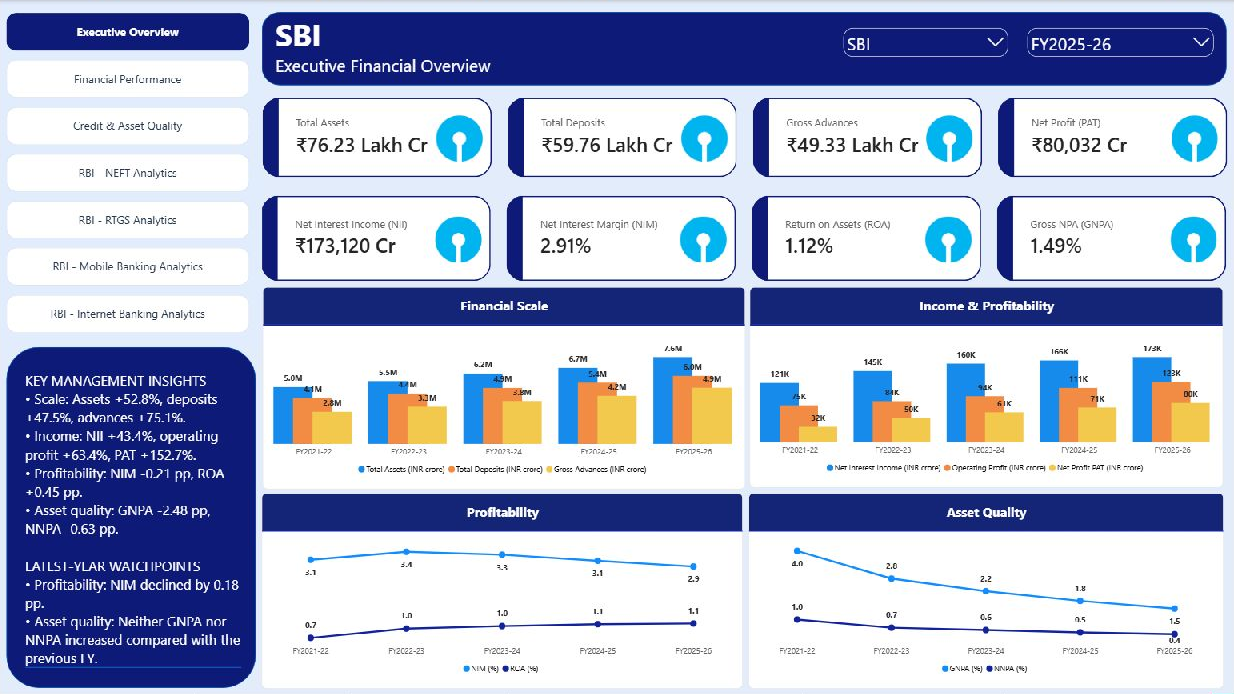

The page's visual inventory and layout, read from the dashboard file:
{"tool":"powerbi","page":{"name":"Executive Overview","canvas":[1920,1080],"ordinal":0},"visuals":[{"type":"shape","box":[0,540,408,530],"z":0},{"type":"shape","box":[408,18,1510,114],"z":1000},{"type":"clusteredColumnChart","title":"Financial Scale","fields":{"Category":["Dim_Financial_Year.Financial Year"],"Y":["Bank KPIs.Total Assets (INR crore)","Bank KPIs.Total Deposits (INR crore)","Bank KPIs.Gross Advances (INR crore)"]},"box":[408.6,445.7,750,314.3],"z":3000},{"type":"clusteredColumnChart","title":"Income & Profitability","fields":{"Category":["Dim_Financial_Year.Financial Year"],"Y":["Bank KPIs.Net Interest Income (INR crore)","Bank KPIs.Operating Profit (INR crore)","Bank KPIs.Net Profit PAT (INR crore)"]},"box":[1166,446,736,312],"z":4000},{"type":"lineChart","title":"Profitability","fields":{"Category":["Dim_Financial_Year.Financial Year"],"Y":["Bank KPIs.NIM (%)","Bank KPIs.ROA (%)"]},"box":[408,766,748,304],"z":5000},{"type":"lineChart","title":"Asset Quality","fields":{"Category":["Dim_Financial_Year.Financial Year"],"Y":["Bank KPIs.GNPA (%)","Bank KPIs.NNPA (%)"]},"box":[1164,766,738,304],"z":6000},{"type":"textbox","box":[408.1,10.5,589.5,102.9],"z":7000},{"type":"cardVisual","fields":{"Data":["Bank KPIs.Executive NII Cr","Bank KPIs.Executive NIM","Bank KPIs.Executive ROA","Bank KPIs.Executive GNPA"]},"box":[408,284,1510,162],"z":9000},{"type":"cardVisual","fields":{"Data":["Bank KPIs.Executive Assets Lakh Cr","Bank KPIs.Executive Deposits Lakh Cr","Bank KPIs.Executive Advances Lakh Cr","Bank KPIs.Executive PAT Cr"]},"box":[408.3,132.7,1512.5,153.1],"z":10000},{"type":"slicer","fields":{"Values":["Dim_Financial_Year.Financial Year"]},"box":[1582,18,320,112],"z":11000},{"type":"pageNavigator","box":[0,0,408.3,539.3],"z":12000},{"type":"textbox","box":[29.1,565.5,356.4,492.7],"z":13000},{"type":"slicer","fields":{"Values":["Dim_Bank.Bank Name"]},"box":[1296,18,286,112],"z":14000}]}

Visuals, with their boxes in screenshot pixels (x1, y1, x2, y2), scaled from the page's 1920x1080 canvas onto the 1234x694 screenshot:
shape: crop(0, 347, 262, 688)
shape: crop(262, 12, 1233, 85)
"Financial Scale" clusteredColumnChart: crop(263, 286, 745, 488)
"Income & Profitability" clusteredColumnChart: crop(749, 287, 1222, 487)
"Profitability" lineChart: crop(262, 492, 743, 688)
"Asset Quality" lineChart: crop(748, 492, 1222, 688)
textbox: crop(262, 7, 641, 73)
cardVisual - Bank KPIs.Executive NII Cr x Bank KPIs.Executive NIM: crop(262, 182, 1233, 287)
cardVisual - Bank KPIs.Executive Assets Lakh Cr x Bank KPIs.Executive Deposits Lakh Cr: crop(262, 85, 1233, 184)
slicer - Dim_Financial_Year.Financial Year: crop(1017, 12, 1222, 84)
pageNavigator: crop(0, 0, 262, 347)
textbox: crop(19, 363, 248, 680)
slicer - Dim_Bank.Bank Name: crop(833, 12, 1017, 84)
